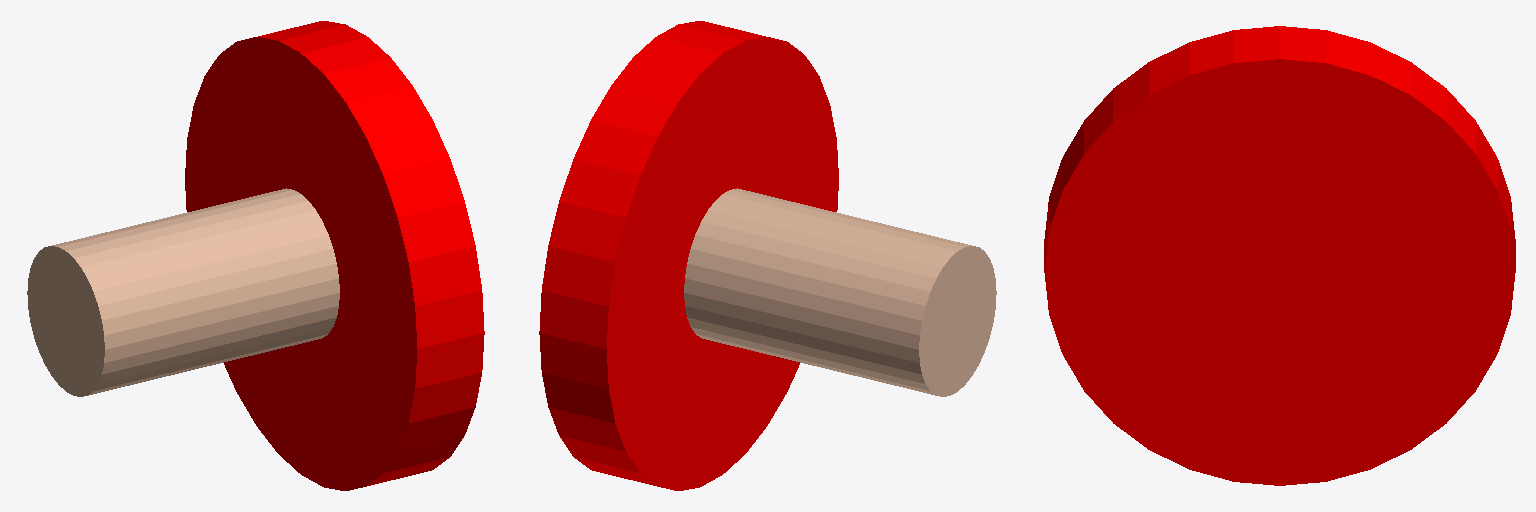
URDF robot description (button):
<?xml version="1.0" ?>
<robot name="button">
  <dynamics damping="1.0" />
  <contact>
    <restitution value="0.01"/>
    <lateral_friction value="0.5"/>
    <rolling_friction value="0.5"/>
    <contact_cfm value="0.0"/>
    <contact_erp value="1.0"/>
  </contact>
  <material name="red">
    <color rgba="1 0 0 1"/>
  </material>
  <material name="peach">
    <color rgba="0.9 0.75 0.65 1"/>
  </material>
  <link name="world"/>
  <joint name="robot_to_world" type="fixed">
    <parent link="world"/>
    <child link="button_stem"/>
    <origin xyz="0 0 0.01" rpy="0 1.5707963268 0"/>
  </joint>
  <link name="button_stem">
    <inertial>
      <origin rpy="0 0 0" xyz="0 0 0"/>
      <mass value="0.01"/>
      <inertia ixx="0.0001" ixy="0" ixz="0" iyy="0.0001" iyz="0" izz="0.0001"/>
    </inertial>
    <visual>
      <origin rpy="0 0 0" xyz="0 0 0"/>
      <geometry>
        <cylinder length="0.02" radius="0.005"/>
      </geometry>
      <material name="peach"/>
    </visual>
    <collision>
      <origin rpy="0 0 0" xyz="0 0 0"/>
      <geometry>
        <cylinder length="0.02" radius="0.005"/>
      </geometry>
      <material name="peach"/>
    </collision>
  </link>
  <joint name="stem_to_head" type="fixed">
    <parent link="button_stem"/>
    <child link="button_head"/>
    <origin xyz="0 0 0.01" rpy="0 0 0"/>
  </joint>
  <link name="button_head">
    <inertial>
      <origin rpy="0 0 0" xyz="0 0 0"/>
      <mass value="0.02"/>
      <inertia ixx="0.0001" ixy="0" ixz="0" iyy="0.0001" iyz="0" izz="0.0001"/>
    </inertial>
    <visual>
      <origin rpy="0 0 0" xyz="0 0 0"/>
      <geometry>
        <cylinder length="0.005" radius="0.015"/>
      </geometry>
      <material name="red"/>
    </visual>
    <collision>
      <origin rpy="0 0 0" xyz="0 0 0"/>
      <geometry>
        <cylinder length="0.005" radius="0.015"/>
      </geometry>
      <material name="red"/>
    </collision>
  </link>
</robot>

--- Facts derived from the render (not from the file) ---
3 views of the same robot in one strip: view 1: azimuth 30°, elevation 25°; view 2: azimuth 150°, elevation 25°; view 3: azimuth 270°, elevation 25° (orthographic).
Robot: button — 3 links, 2 joints (2 fixed); root link world; default pose: all joints at 0.
Links seen in each view (by area): view 1: button_head, button_stem; view 2: button_head, button_stem; view 3: button_head.
Boxes of the visible links, bbox=[...] form: button_head: bbox=[185, 21, 484, 490]; button_stem: bbox=[27, 188, 339, 396]; button_head: bbox=[539, 21, 838, 490]; button_stem: bbox=[684, 188, 996, 396]; button_head: bbox=[1044, 26, 1515, 485].
Bounding box of the posed robot: 0.0225 × 0.03 × 0.03 m (x, y, z).
Geometry: primitives only (box / cylinder / sphere), no mesh files.